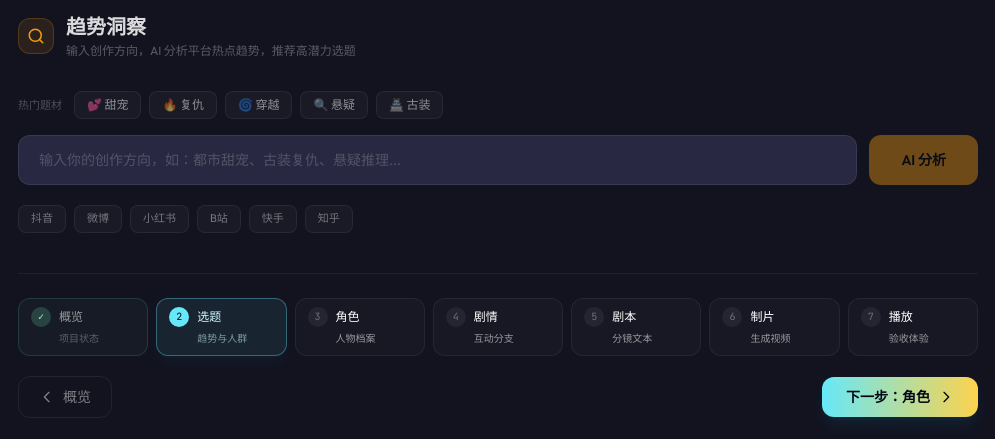
Test case: ProphetPanel › 交互测试 › analyze button enables when query is typed
Step 1. Type "甜宠短剧" into the field with placeholder "输入你的创作方向，如：都市甜宠、古装复仇、悬疑推理..." → (438, 160), box [18,135,857,185]
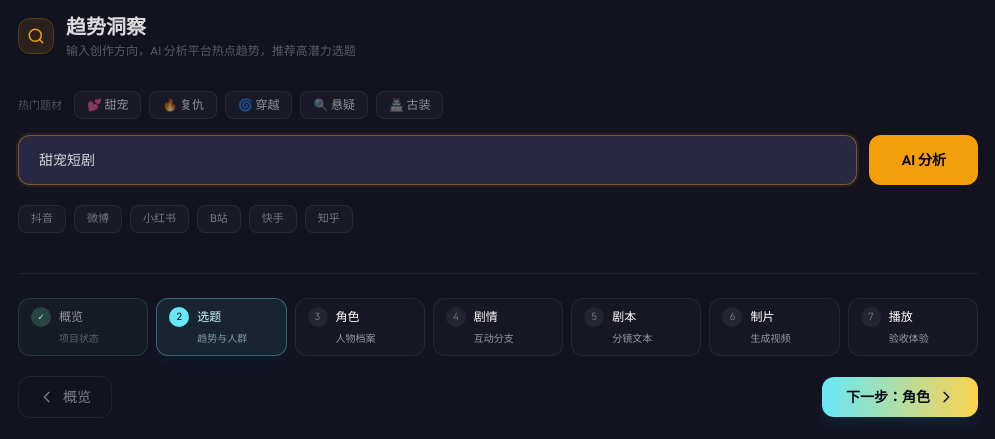
Now the button "AI 分析" is enabled, box [869,135,978,185]
